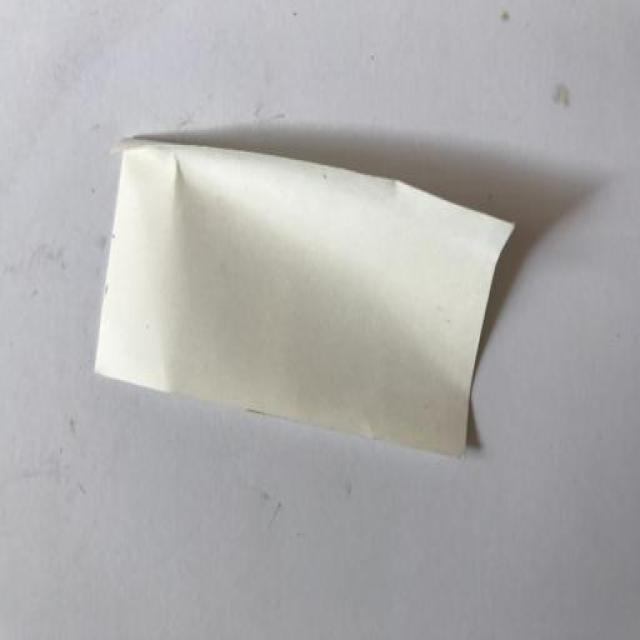paper: (92, 136, 516, 456)
